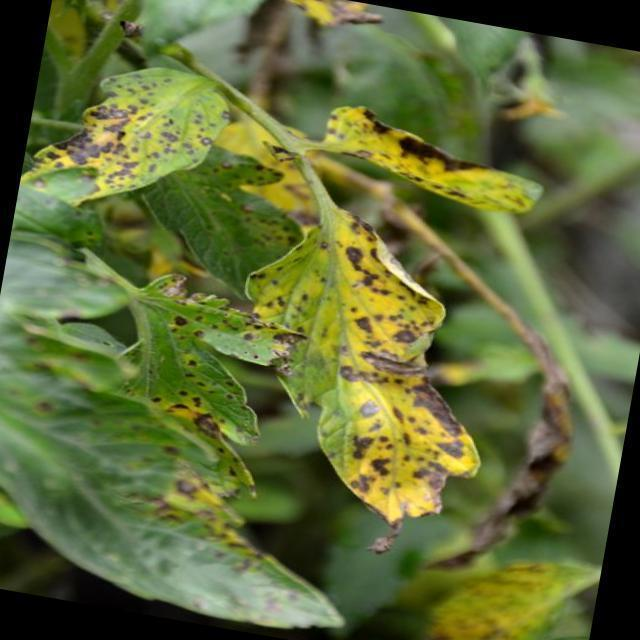Bacterial Spot: (203, 190, 510, 533), (105, 259, 308, 502), (18, 46, 228, 228), (315, 100, 572, 224)
